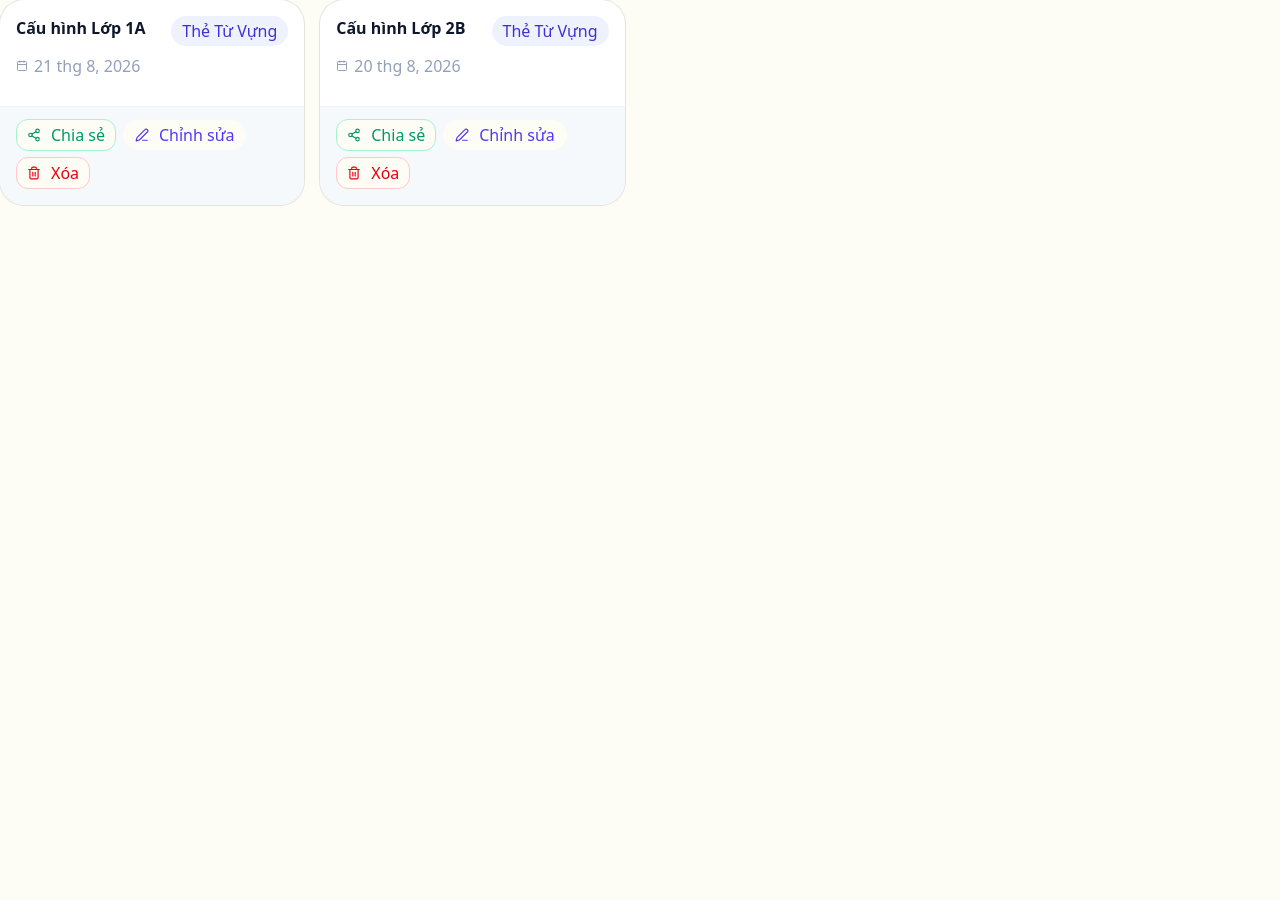
Test case: ConfigList Component › opens share dialog when share button is clicked
The width and height of the screenshot is (1280, 900).
What coordinates should you click on to do the following:
click the 2nd button "Chia sẻ"
I would click on:
 (386, 135)
Its box is [336,119,436,151].
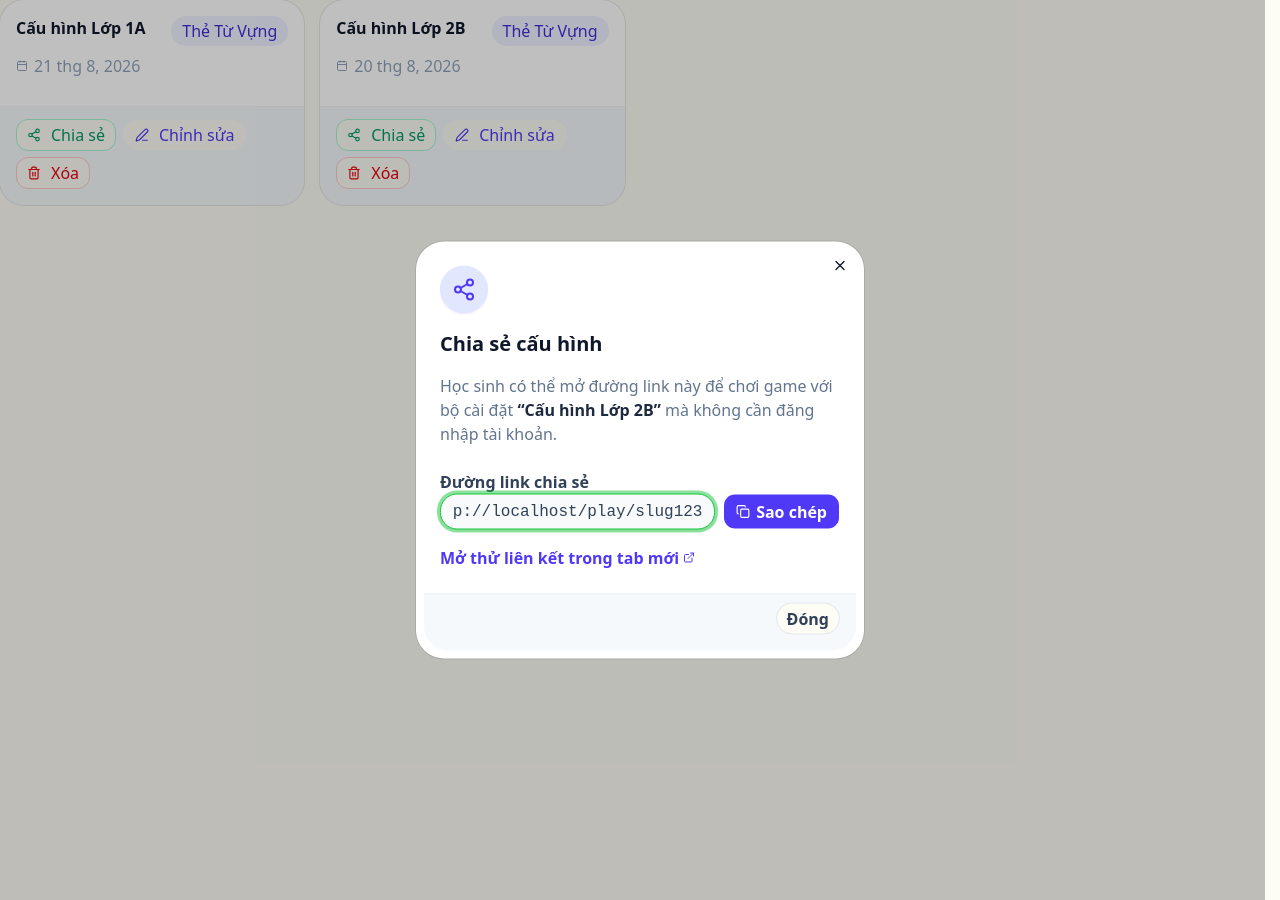
Expected: the heading "Chia sẻ cấu hình" is shown, [440,330,602,356]
